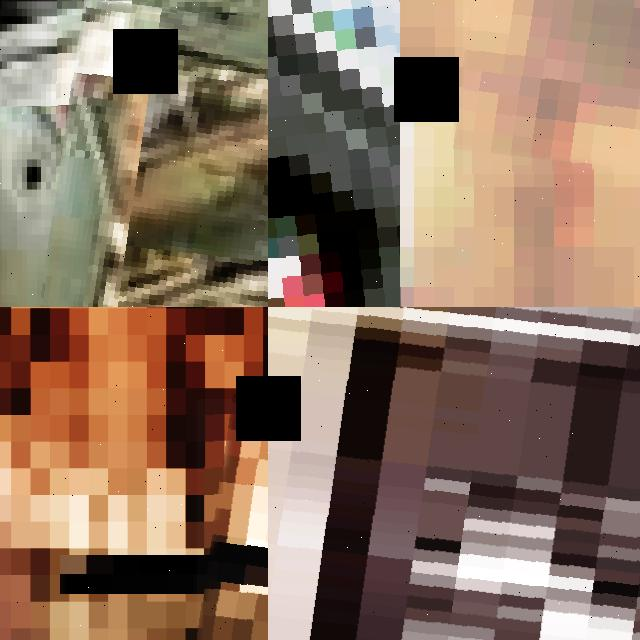arms: (268, 307, 640, 640), (41, 13, 268, 307), (268, 0, 400, 307), (463, 0, 640, 174), (197, 399, 268, 640)
